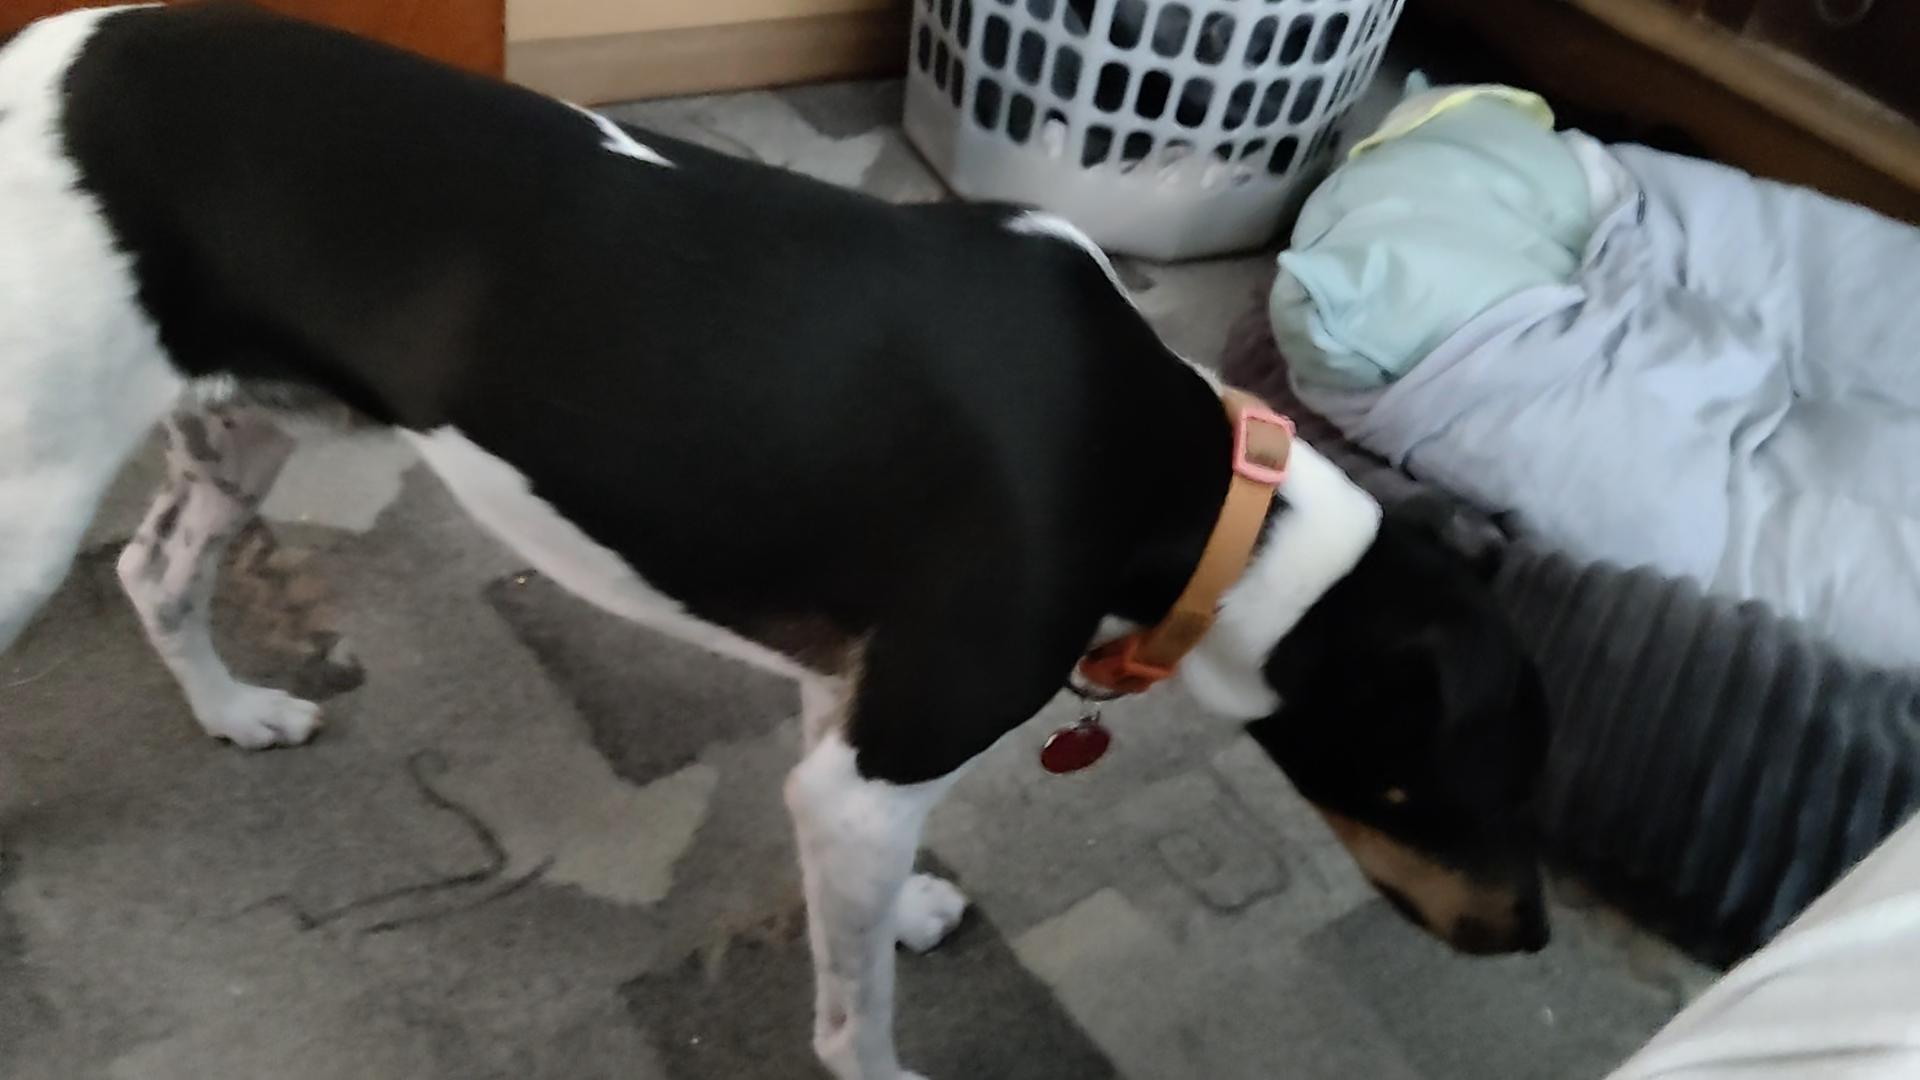Dog: (0, 0, 1565, 1080)
